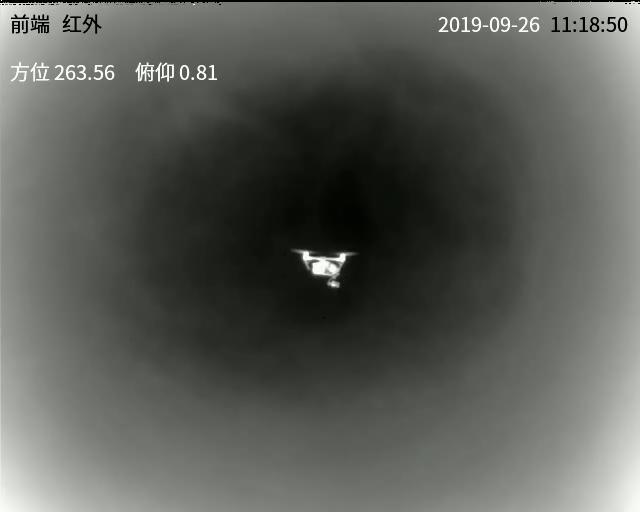uav: (286, 241, 359, 294)
